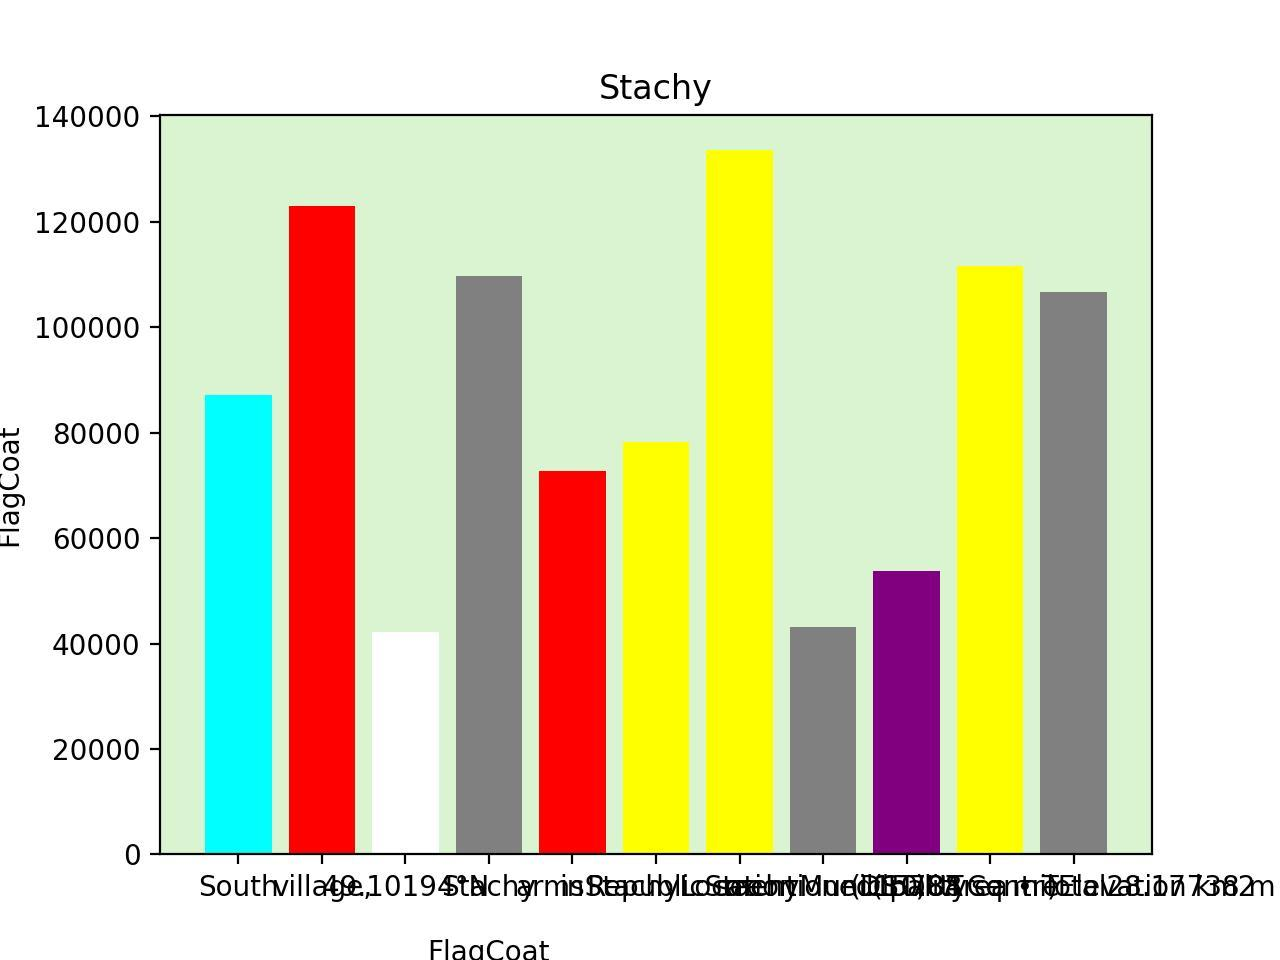axis: (0, 106, 141, 871)
rectangle: (706, 150, 773, 854), (288, 206, 356, 854), (956, 265, 1024, 854), (456, 275, 522, 854), (1040, 292, 1107, 854), (205, 394, 272, 854), (623, 442, 689, 854), (539, 472, 606, 854), (873, 572, 940, 854), (789, 627, 857, 854), (372, 631, 439, 854)
